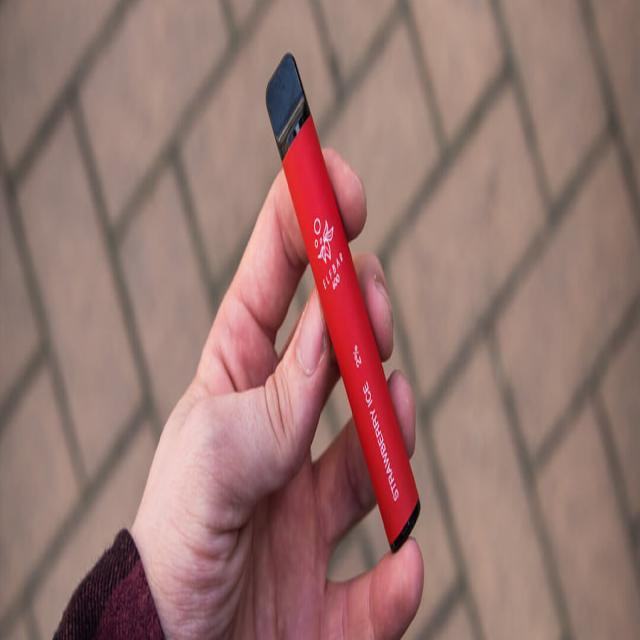Hazard: (264, 51, 422, 556)
